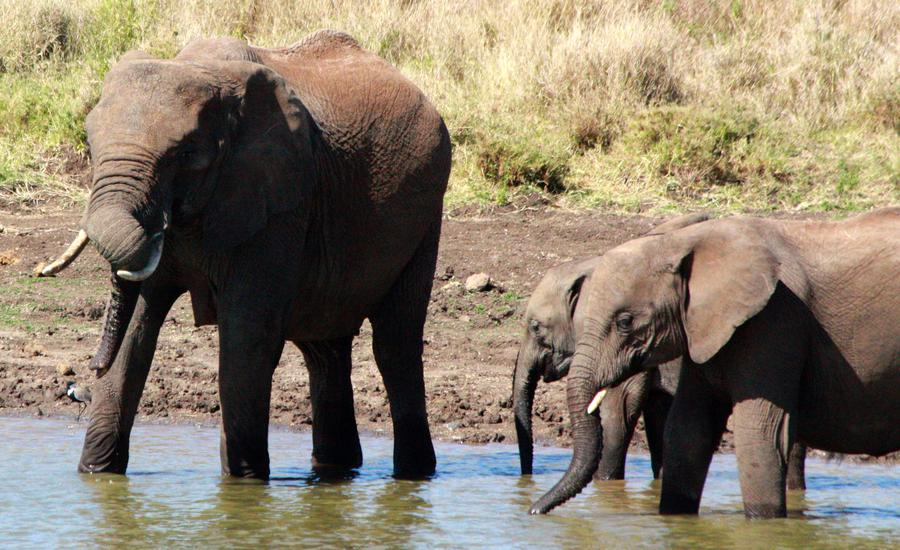elephant: (65, 49, 254, 311)
